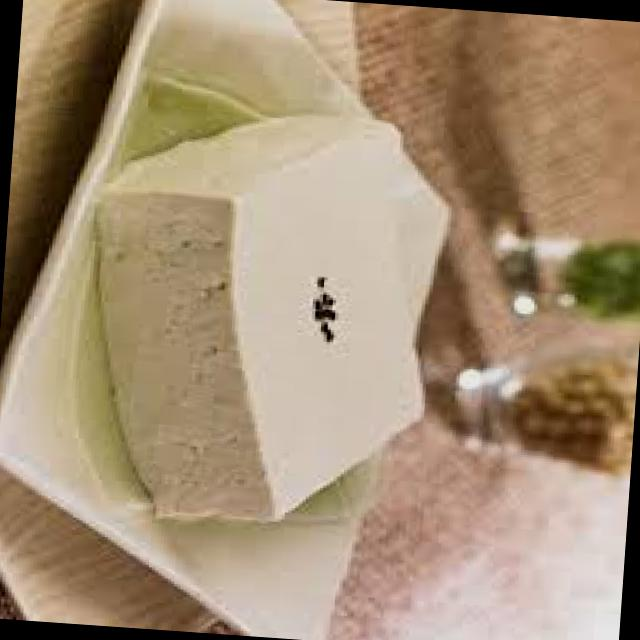tof: (46, 63, 435, 570)
